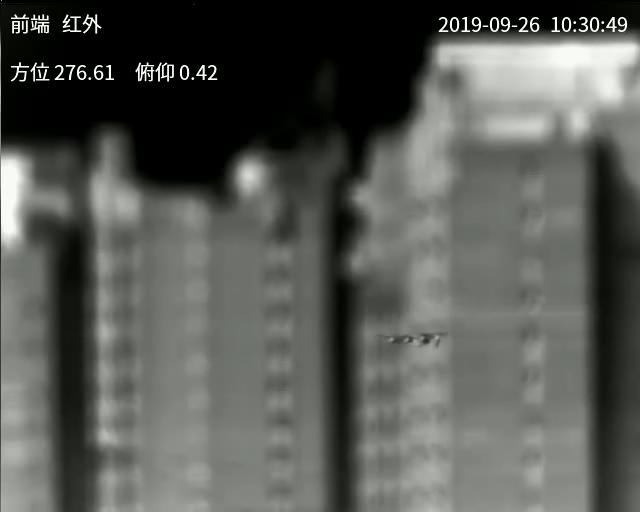uav: (382, 326, 450, 352)
